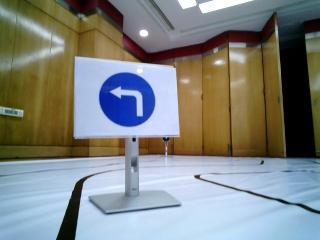left: (80, 62, 174, 137)
